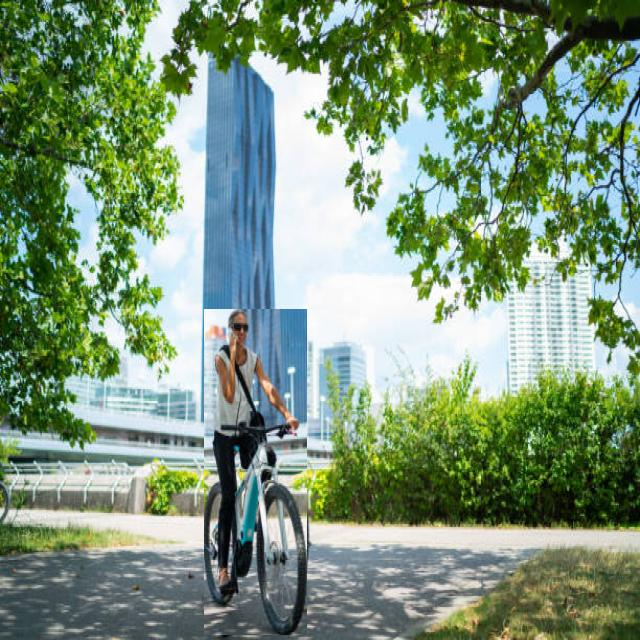bicycle: (205, 309, 307, 635)
